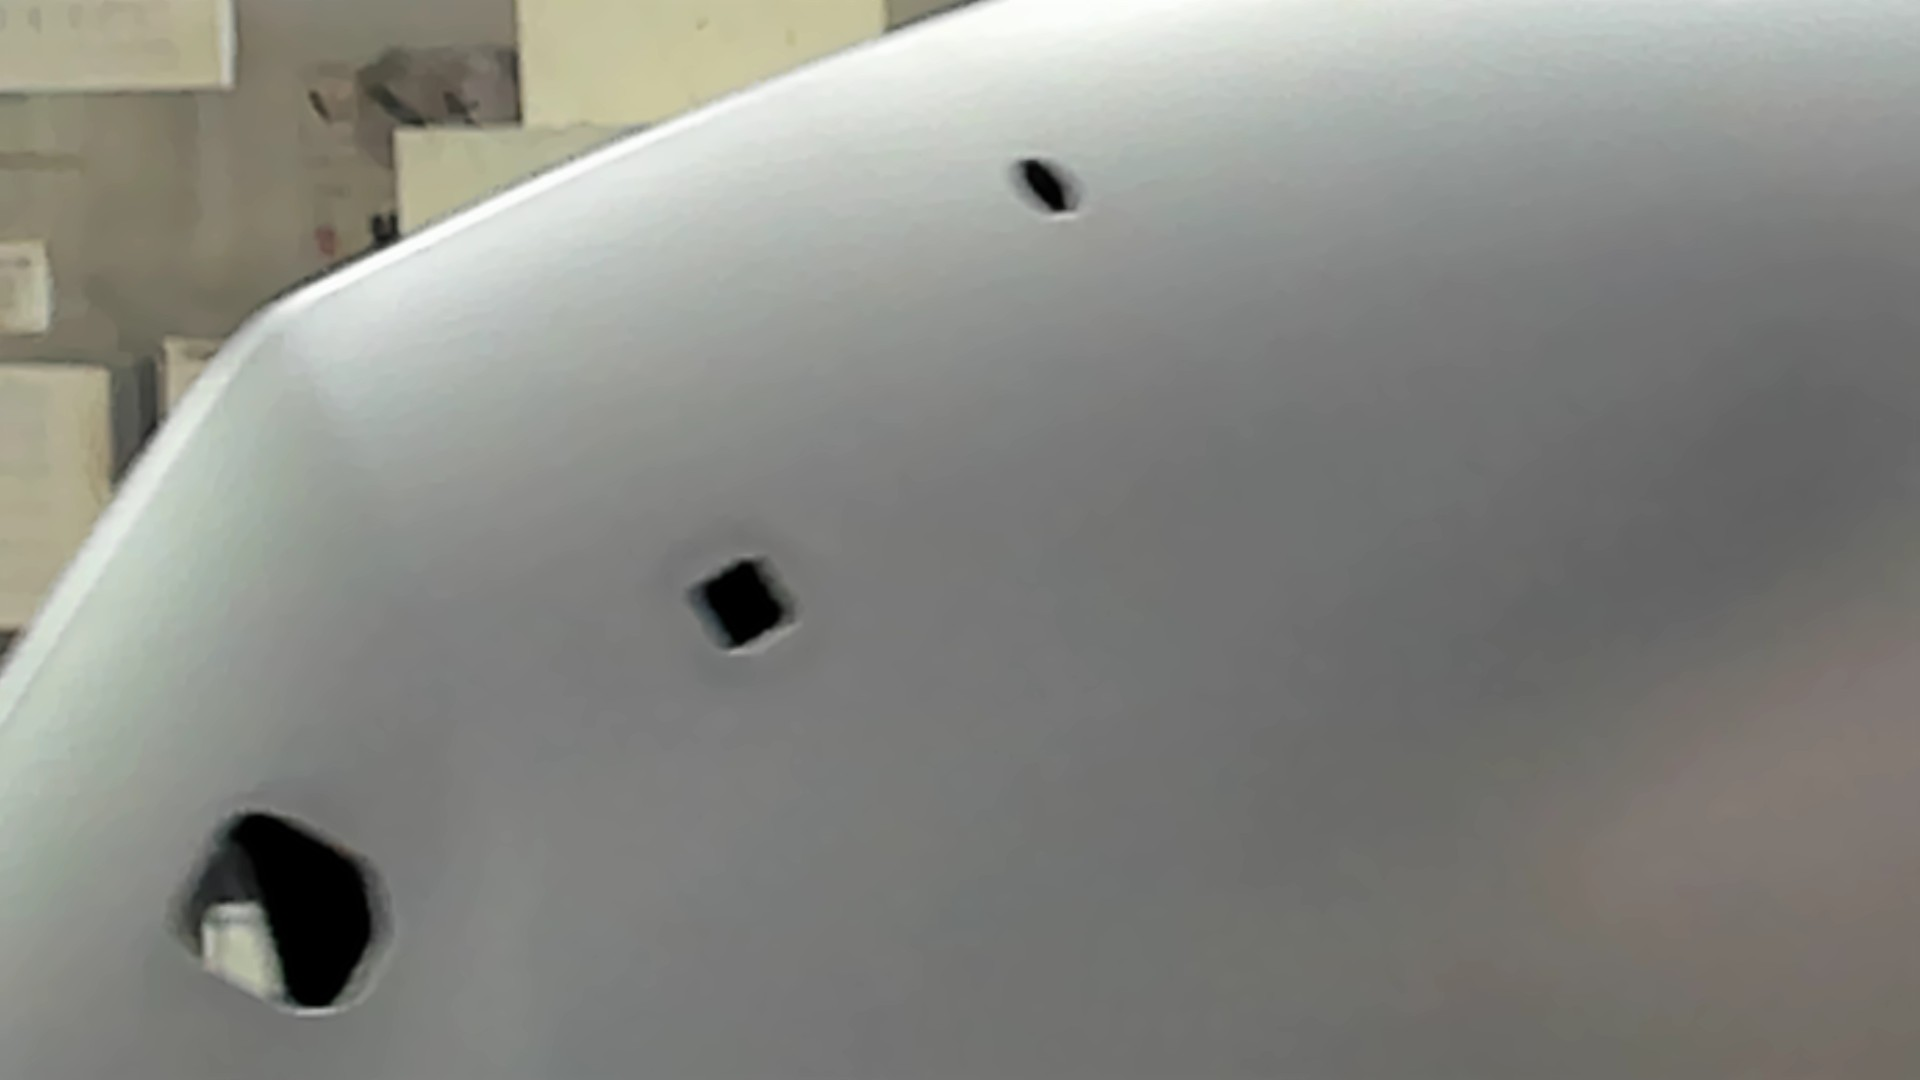chico: (1009, 156, 1087, 222)
grande: (164, 807, 393, 1022)
mediano: (682, 553, 803, 657)
